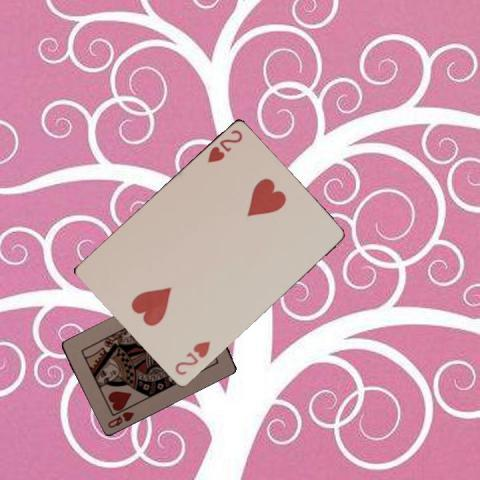2h: (171, 337, 212, 376), (205, 126, 244, 164)
Qh: (105, 409, 135, 429)
